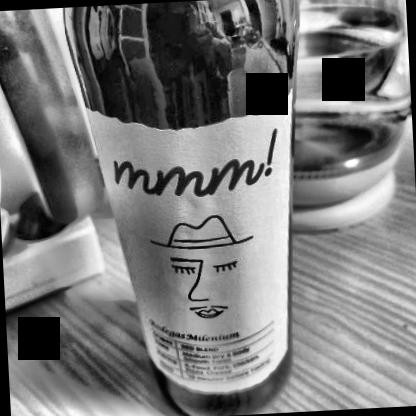umm: (90, 97, 298, 399)
